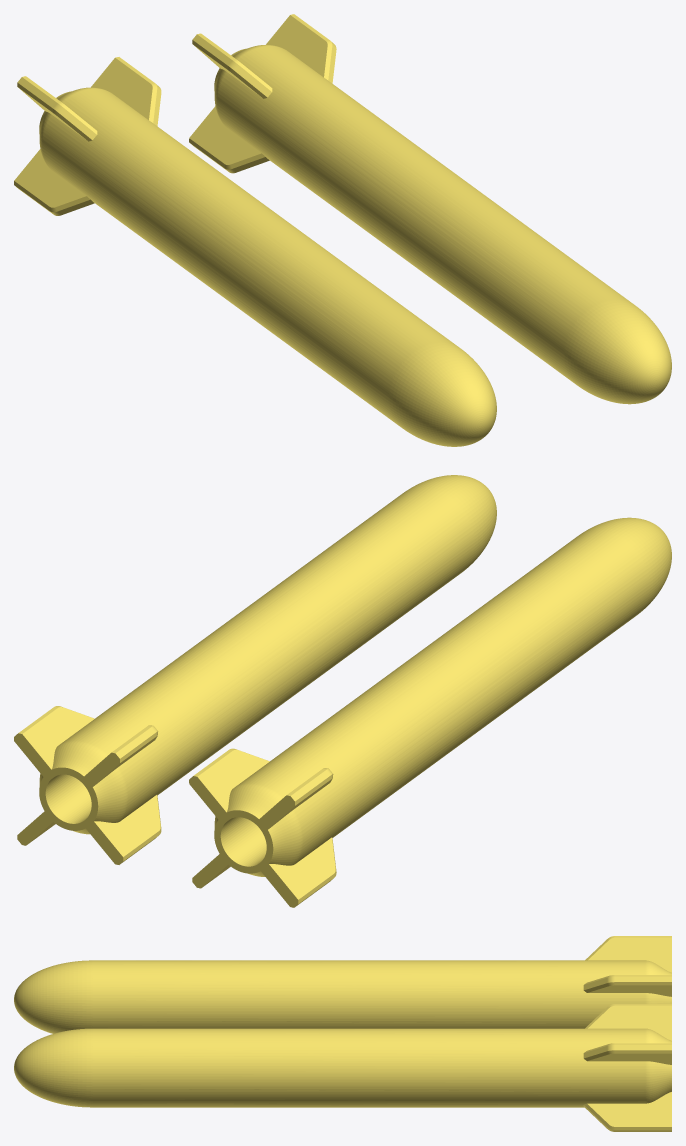
File: torps.glb
The picture shows the model from 3 angles, top to bottom: view 1: azimuth 30°, elevation 25°; view 2: azimuth 150°, elevation 25°; view 3: azimuth 270°, elevation 25°; orthographic projection. The views are drawn at different scales.
Parts seen in each view (by area): view 1: tp__Torpedo_D18_L, tp__Torpedo_D18_R; view 2: tp__Torpedo_D18_R, tp__Torpedo_D18_L; view 3: tp__Torpedo_D18_R, tp__Torpedo_D18_L.
Part boxes in pixels (bbox=[...]): tp__Torpedo_D18_L: bbox=[14, 57, 496, 446]; tp__Torpedo_D18_R: bbox=[189, 14, 671, 404]; tp__Torpedo_D18_R: bbox=[14, 475, 496, 864]; tp__Torpedo_D18_L: bbox=[189, 517, 671, 907]; tp__Torpedo_D18_R: bbox=[14, 1004, 671, 1131]; tp__Torpedo_D18_L: bbox=[14, 936, 671, 1033].
Bounding box in the file's own units: 59.74 × 22.97 × 150.
